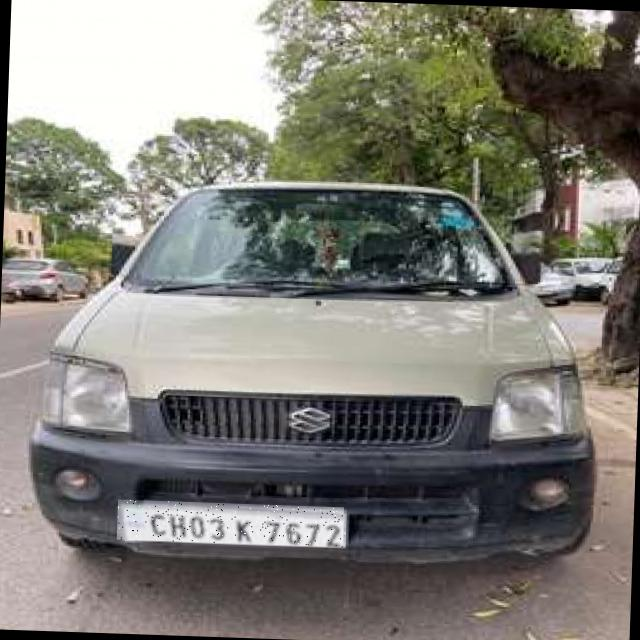Plate: (118, 501, 345, 549)
